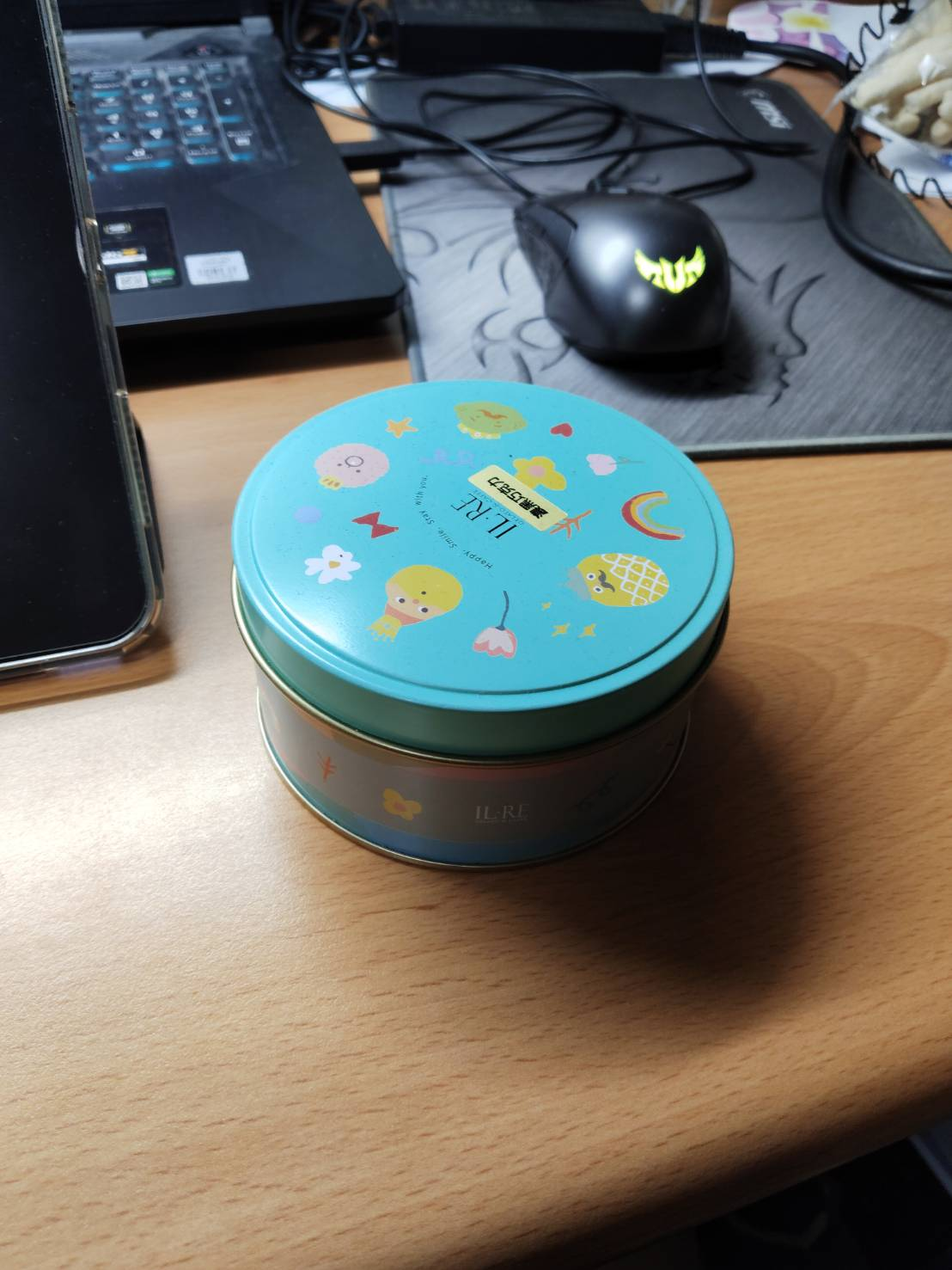metal: (198, 358, 805, 894)
